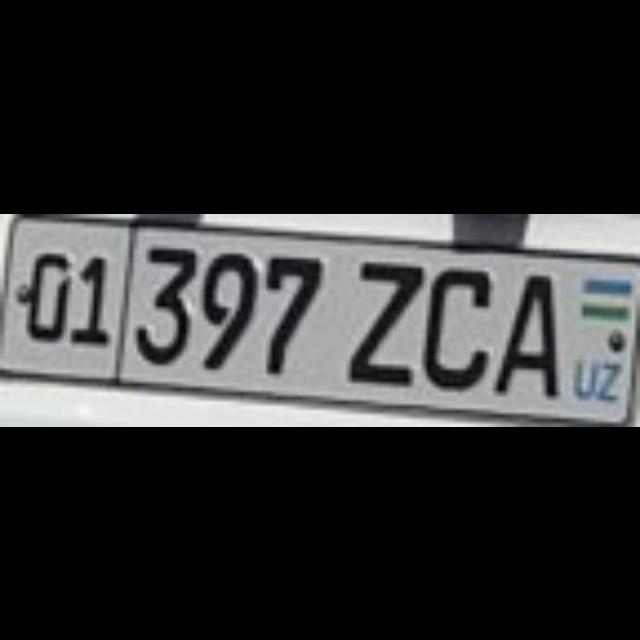0: (22, 244, 62, 334)
1: (67, 248, 107, 338)
3: (129, 239, 191, 355)
7: (258, 249, 316, 369)
9: (195, 244, 253, 360)
A: (489, 267, 551, 391)
C: (418, 258, 484, 387)
Z: (342, 258, 422, 382)
